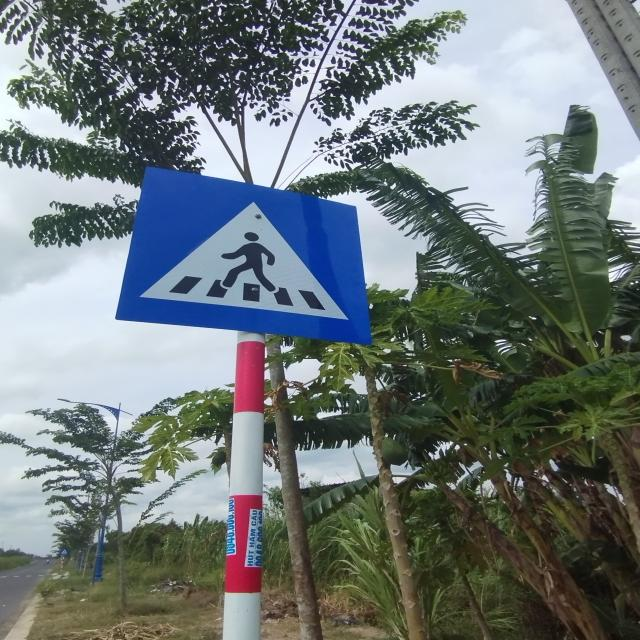Giao_Nhau_Duong_Uu_Tien: (116, 166, 372, 344)
